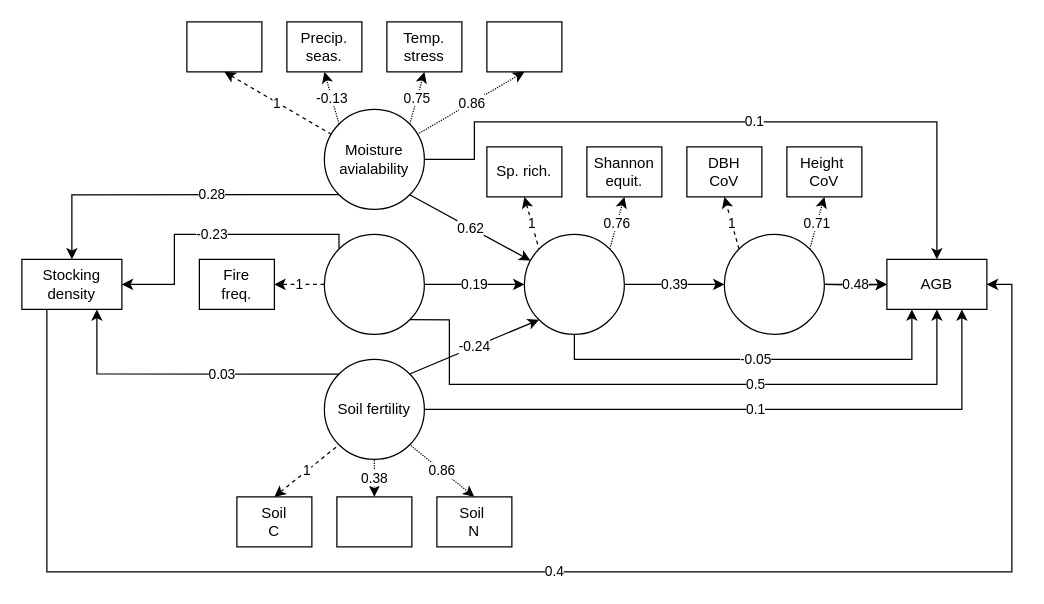
Some shapes in this 1044 by 604 pixel diagram are drawn without their labels. The shapes that lost their labels are listed below. From the top down, each one's centre as x and y in pixels, then its label:
the point at 224,46: MAP
the point at 524,46: Soil sand
the point at 373,283: Disturbance
the point at 573,283: Species diversity
the point at 773,283: Structural diversity
the point at 374,521: Soil CEC
